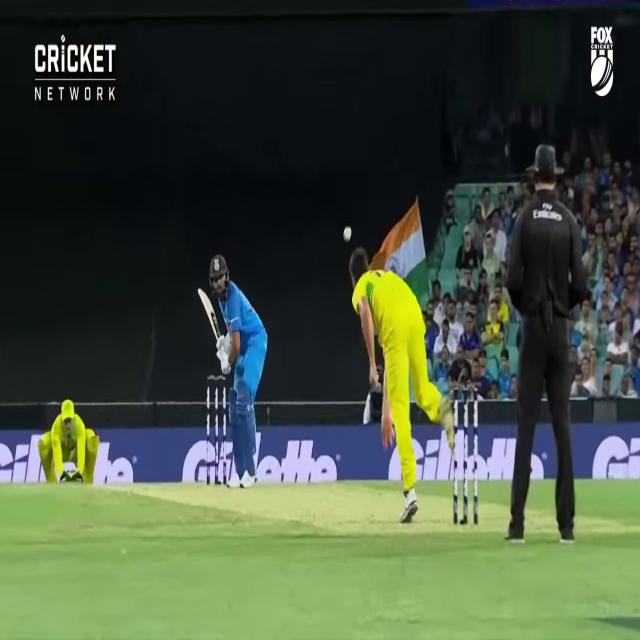ball: (343, 225, 353, 242)
stump: (207, 376, 227, 485)
